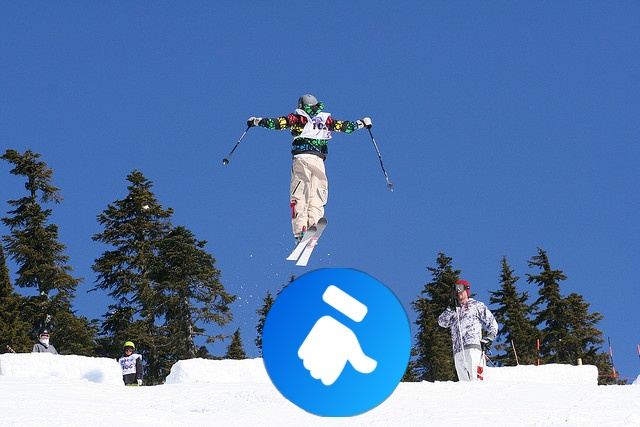like: (262, 268, 411, 417)
